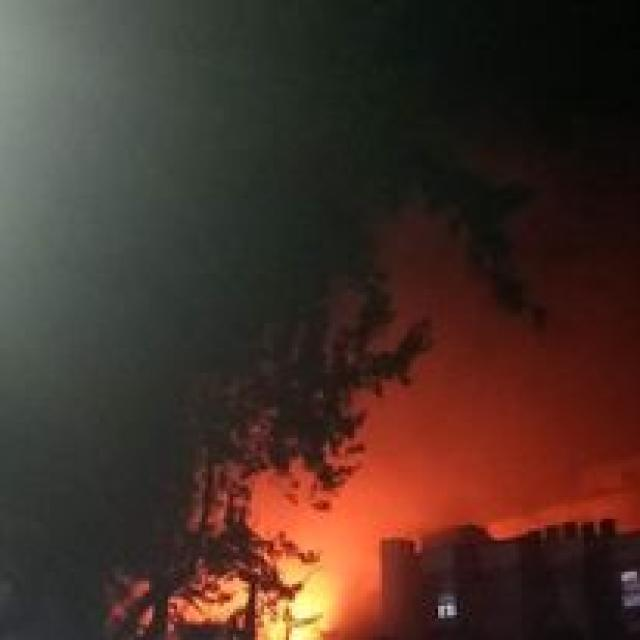Fire: (234, 489, 364, 640)
Smoke: (312, 377, 629, 515)
